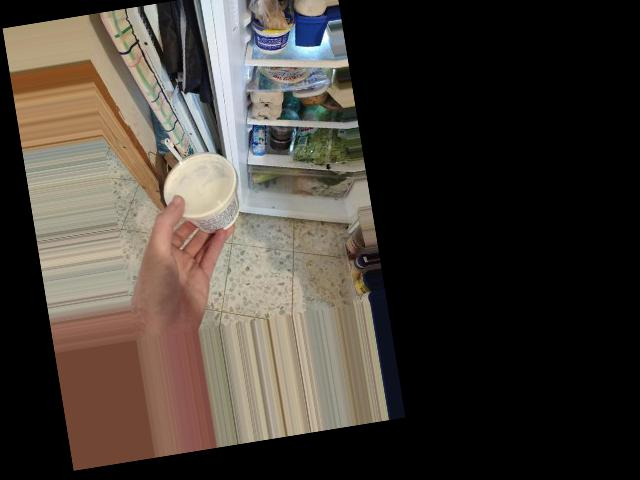cotage: (162, 141, 241, 237)
